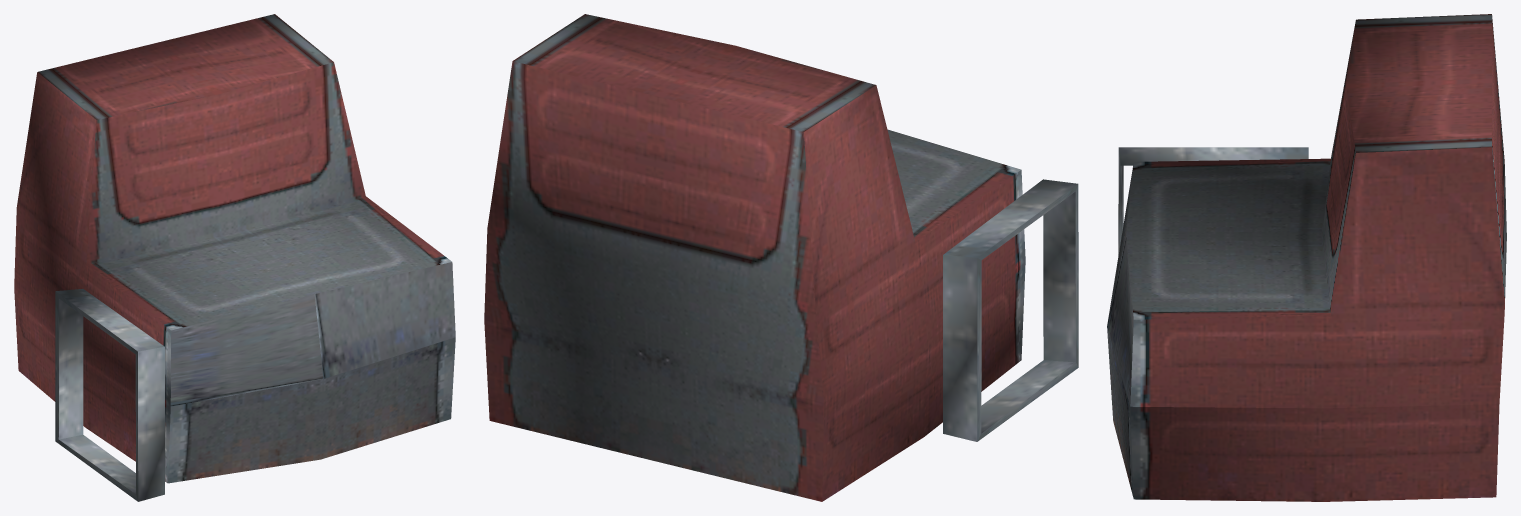
The model's file is frn_all_chair_upholstered_s1_l4.fbx.
3 renders of one model, left to right at view 1: azimuth 30°, elevation 25°; view 2: azimuth 150°, elevation 25°; view 3: azimuth 270°, elevation 25°, orthographic. The views are drawn at different scales.
Visible parts, largest first — view 1: mesh_node; view 2: mesh_node; view 3: mesh_node.
Part boxes in pixels (left/top/right/bottom): mesh_node: left=14, top=14, right=455, bottom=501; mesh_node: left=484, top=14, right=1078, bottom=501; mesh_node: left=1107, top=14, right=1506, bottom=501.
Bounding box in the file's own units: 0.88 × 0.7625 × 0.8114.
1 material, 1 textured.
